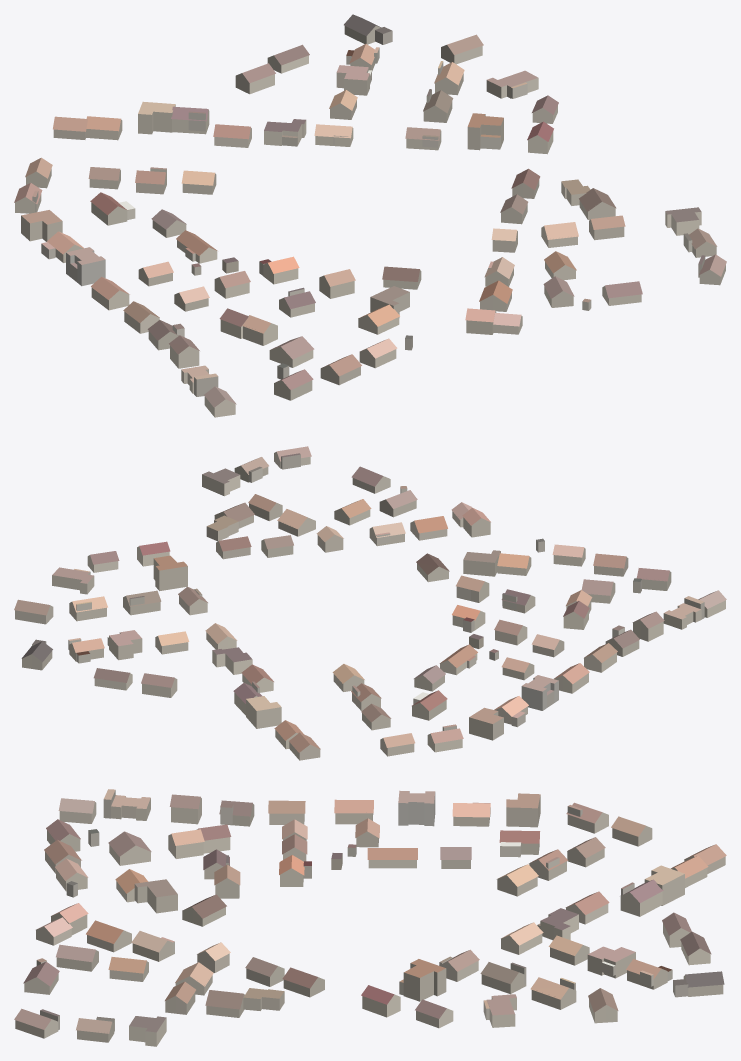
3 views of the same model, one above another, from view 1: azimuth 30°, elevation 25°; view 2: azimuth 150°, elevation 25°; view 3: azimuth 270°, elevation 25° (orthographic). The views are drawn at different scales.
Visible parts, largest first — view 1: tuile; view 2: tuile; view 3: tuile.
Boxes of the visible parts, x1,y1,x2,y2 form: tuile: (14,14,726,417); tuile: (14,446,726,760); tuile: (14,789,726,1046).
Bounding box in the file's own units: 237 × 30.31 × 261.
